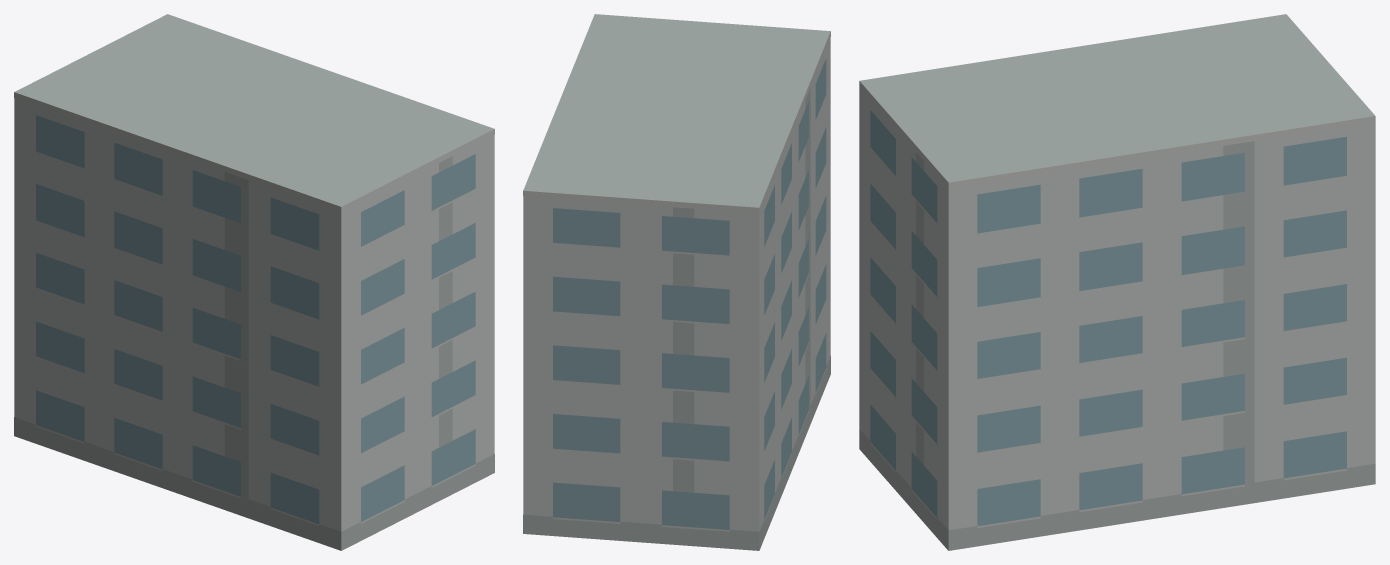
File: survey-upis-32617595.glb
3 views of the same model, side by side, from view 1: azimuth 30°, elevation 25°; view 2: azimuth 150°, elevation 25°; view 3: azimuth 270°, elevation 25° (orthographic). The views are drawn at different scales.
Parts seen in each view (by area): view 1: survey-upis-32617595.tmp; view 2: survey-upis-32617595.tmp; view 3: survey-upis-32617595.tmp.
Part boxes in pixels (box(x1,y1,x2,y2)): survey-upis-32617595.tmp: box(14, 14, 494, 550); survey-upis-32617595.tmp: box(523, 14, 830, 550); survey-upis-32617595.tmp: box(859, 14, 1375, 550).
Size of the model in its own units: 14.25 by 14.5 by 18.43.
